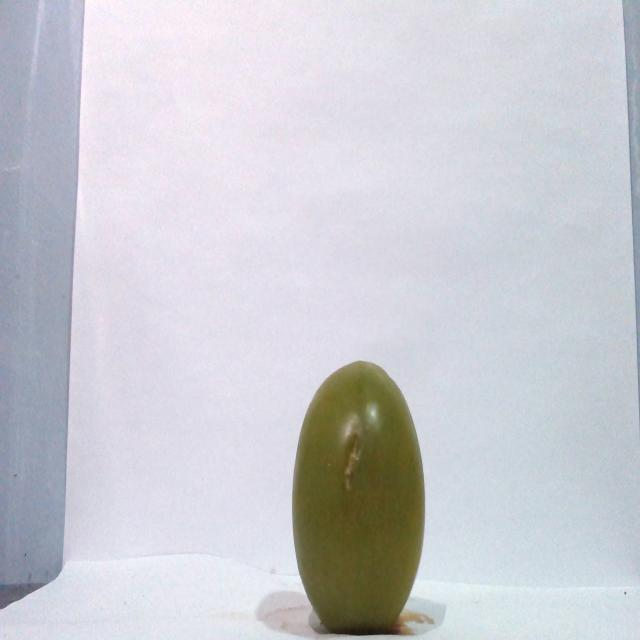Red: (290, 358, 426, 632)
